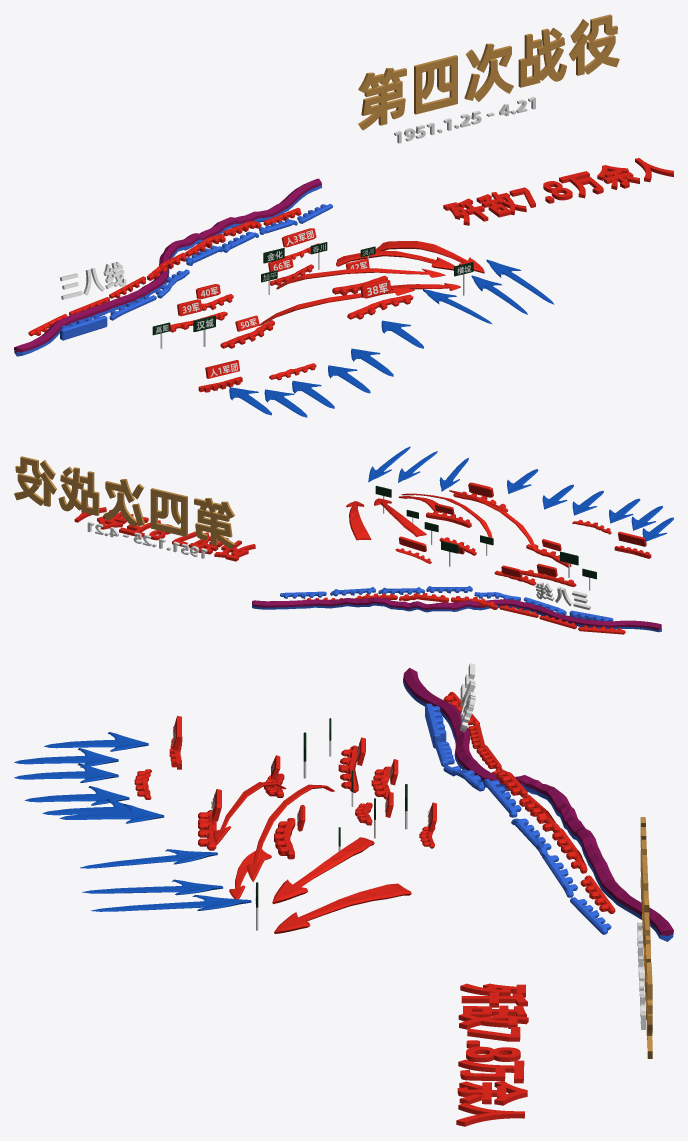
File: 4-animate.glb
The picture shows the model from 3 angles, top to bottom: view 1: azimuth 30°, elevation 25°; view 2: azimuth 150°, elevation 25°; view 3: azimuth 270°, elevation 25°; orthographic projection. The views are drawn at different scales.
Visible parts, largest first — view 1: 文本.020, 38line, 文本.029, 文本.021, 文本.016, 贝塞尔曲线.092, 贝塞尔曲线.143, 贝塞尔曲线.087, 贝塞尔曲线.090, 贝塞尔曲线.104; view 2: 文本.020, 38line, 文本.029, 文本.021, 文本.016, 贝塞尔曲线.143, 贝塞尔曲线.087, 贝塞尔曲线.090, 贝塞尔曲线.092, 贝塞尔曲线.142, 贝塞尔曲线.086, 贝塞尔曲线.097 (+9 smaller); view 3: 文本.029, 38line, 文本.020, 贝塞尔曲线.143, 贝塞尔曲线.087, 贝塞尔曲线.142, 贝塞尔曲线.141, 贝塞尔曲线.140, 贝塞尔曲线.092, 贝塞尔曲线.136, 贝塞尔曲线.077, 贝塞尔曲线.139 (+4 smaller).
Part boxes in pixels (x1,y1,x2,y2): 文本.020: [358, 14, 619, 130]; 38line: [14, 178, 322, 356]; 文本.029: [443, 158, 673, 225]; 文本.021: [394, 96, 535, 143]; 文本.016: [60, 262, 126, 299]; 贝塞尔曲线.092: [276, 268, 445, 289]; 贝塞尔曲线.143: [375, 241, 484, 273]; 贝塞尔曲线.087: [336, 250, 454, 270]; 贝塞尔曲线.090: [259, 287, 414, 325]; 贝塞尔曲线.104: [60, 315, 107, 340]; 文本.020: [14, 456, 235, 549]; 38line: [252, 597, 661, 632]; 文本.029: [74, 504, 255, 561]; 文本.021: [87, 521, 207, 558]; 文本.016: [535, 581, 590, 609]; 贝塞尔曲线.143: [346, 501, 371, 540]; 贝塞尔曲线.087: [374, 498, 426, 536]; 贝塞尔曲线.090: [449, 490, 536, 550]; 贝塞尔曲线.092: [401, 493, 492, 537]; 贝塞尔曲线.142: [368, 446, 410, 482]; 贝塞尔曲线.086: [426, 511, 471, 527]; 贝塞尔曲线.097: [399, 593, 448, 602]; 文本.029: [456, 983, 528, 1126]; 38line: [403, 668, 673, 941]; 文本.020: [640, 817, 652, 1058]; 贝塞尔曲线.143: [274, 883, 411, 933]; 贝塞尔曲线.087: [272, 837, 374, 904]; 贝塞尔曲线.142: [91, 895, 251, 911]; 贝塞尔曲线.141: [82, 879, 223, 895]; 贝塞尔曲线.140: [80, 849, 217, 868]; 贝塞尔曲线.092: [247, 784, 334, 882]; 贝塞尔曲线.136: [14, 763, 118, 782]; 贝塞尔曲线.077: [44, 732, 148, 751]; 贝塞尔曲线.139: [59, 804, 164, 823].
Size of the model in its own units: 52.5 by 8.33 by 32.01.
